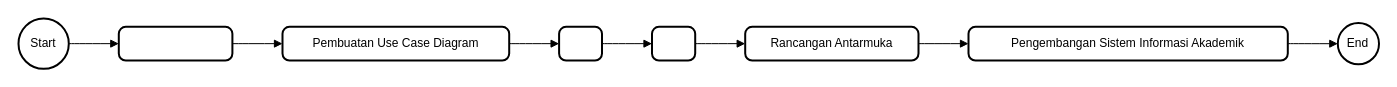
This 1397x87 diagram has some shape labels left out. The shapes that lost their labels are listed below. From the top down, each one's centre as x and y in pixels, then its label:
pixel 175 43: Desain Sistem
pixel 580 43: ERD
pixel 673 43: DFD
